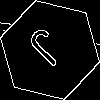J: (25, 25, 75, 76)
